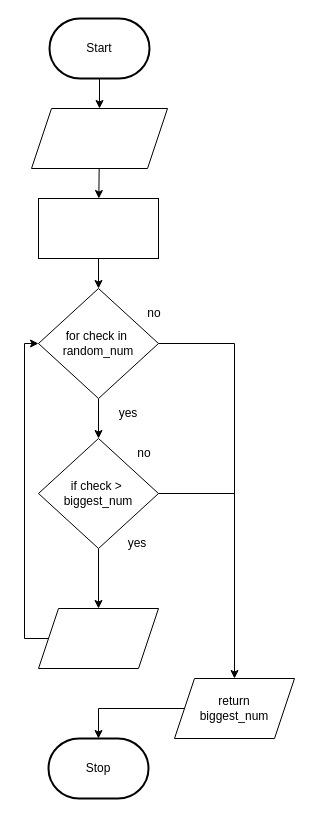
This 312x816 diagram has some shape labels left out. The shapes that lost their labels are listed below. From the top down, each one's centre as x and y in pixels, then its label:
pixel 99 138: Get random_number[0]
pixel 98 228: biggest_num = random_number[0]
pixel 98 638: biggest_num = check
